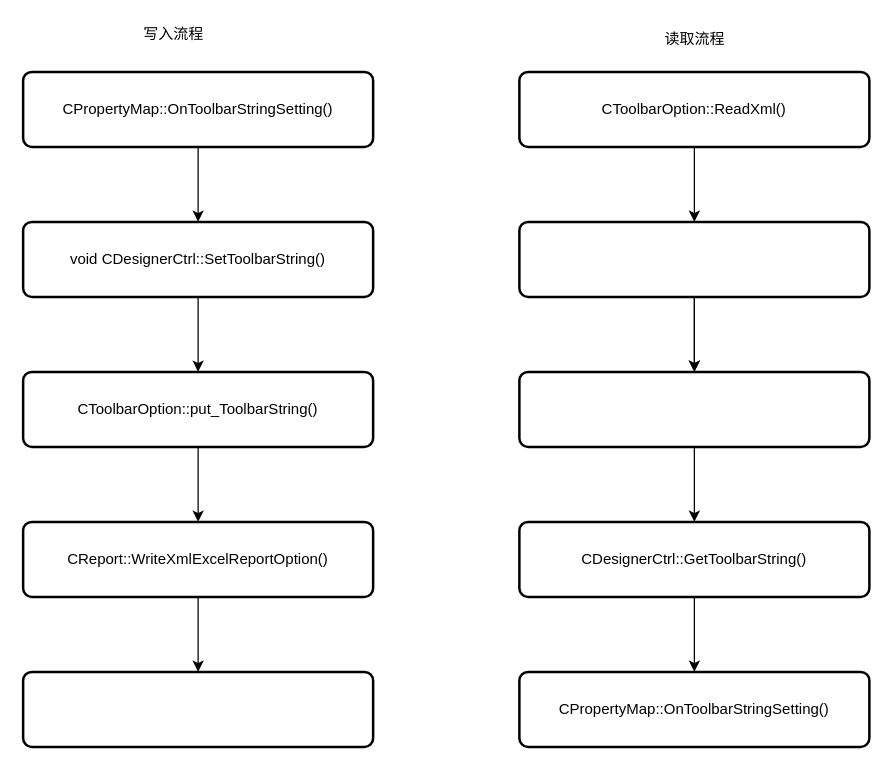
This 891x769 diagram has some shape labels left out. Here are the shapes that lost their labels. From the top down, the centre of each, then its label:
At pixel 694 259: "CReport::ReadXmlExcelReportOption()".
At pixel 694 409: "CToolbarOption::get_ToolbarString()".
At pixel 197 709: "CToolbarOption::WriteXml()".
